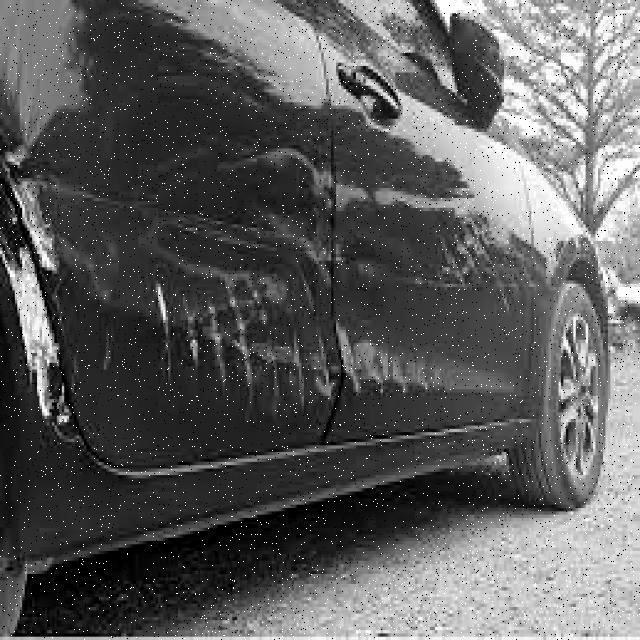doorouter-dent: (0, 10, 328, 452), (333, 46, 523, 452)
